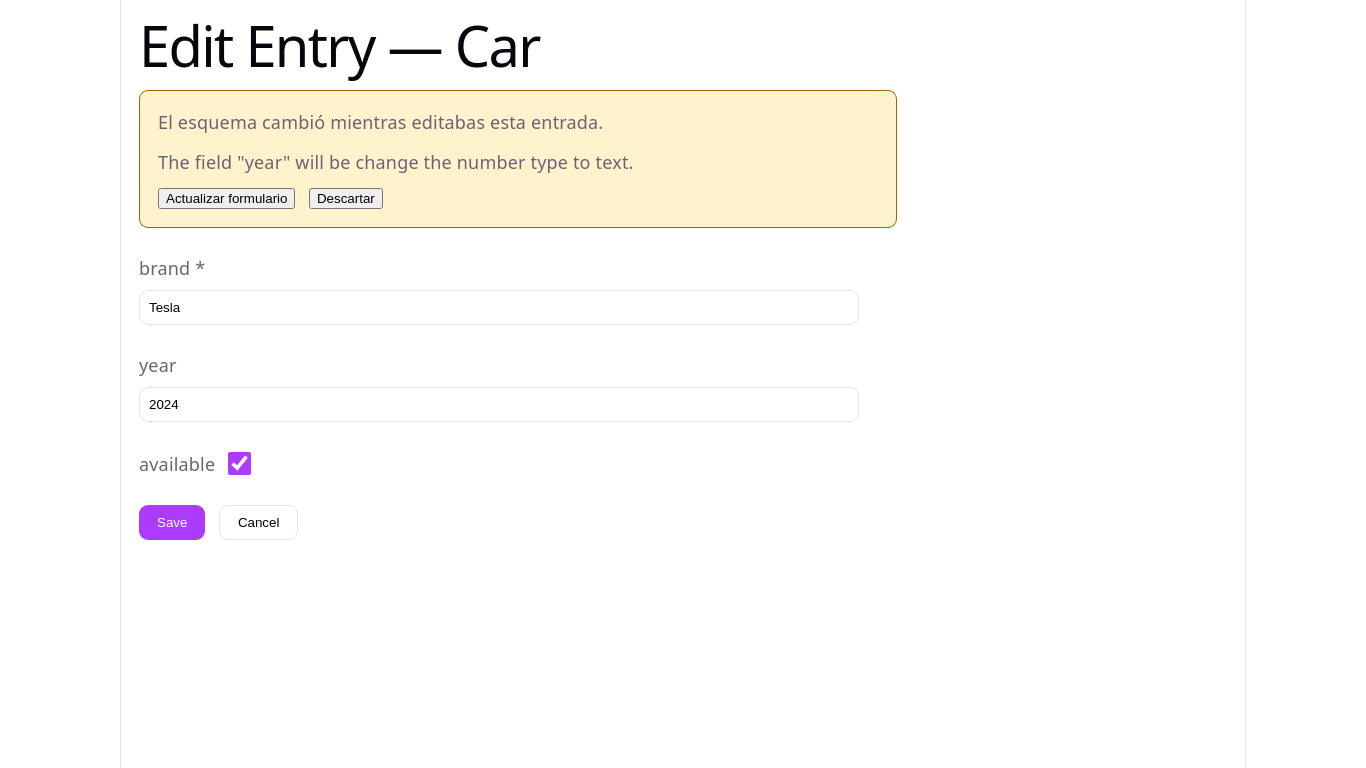
Test: EntryEditorPage — mid-edit schema.updated (6.5) › dismissing the banner keeps the form unchanged
The image size is (1366, 768).
expect the field named "brand" is shown: met, box [139, 290, 859, 325]
Click the button "Descartar".
click(346, 199)  # box [309, 188, 383, 209]
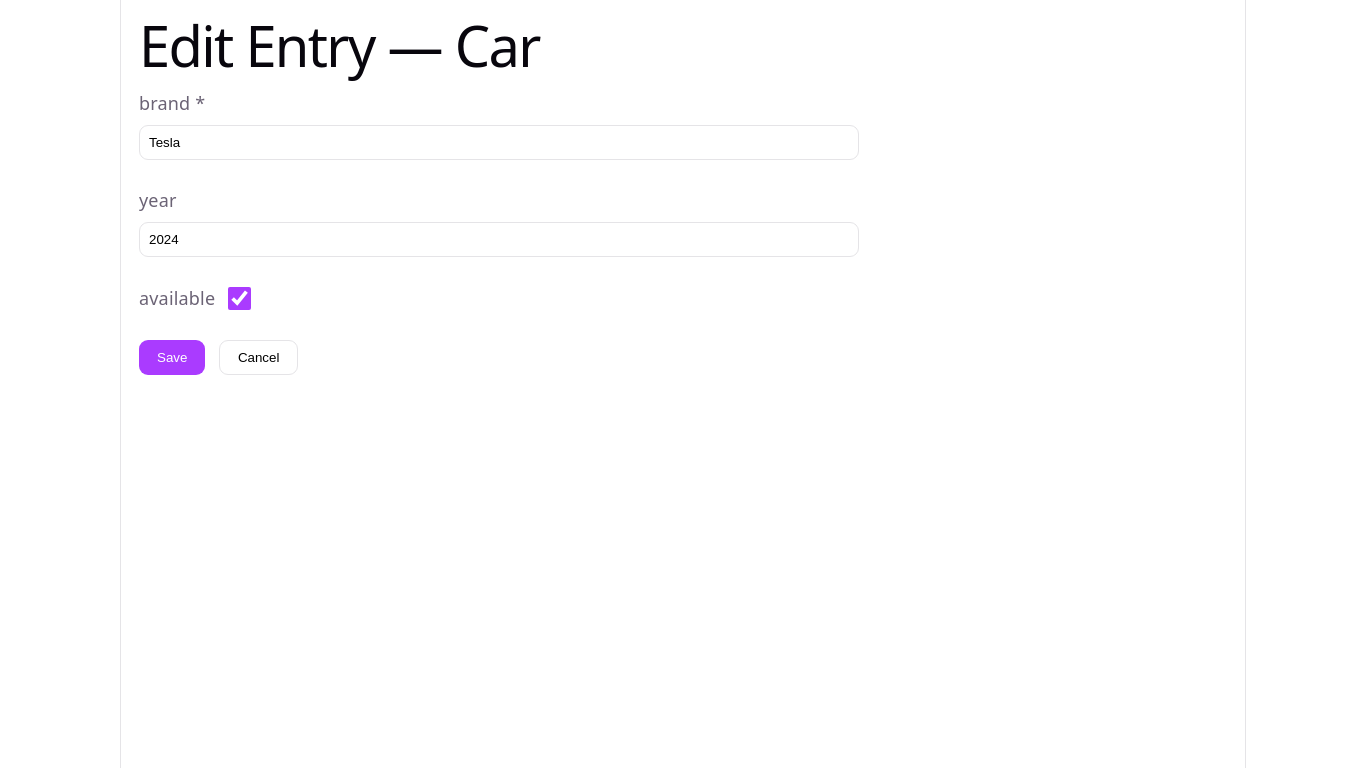
expect the number field named "year" holds "2024": met, box [139, 222, 859, 257]
expect the text "esquema cambió" is gone: met
